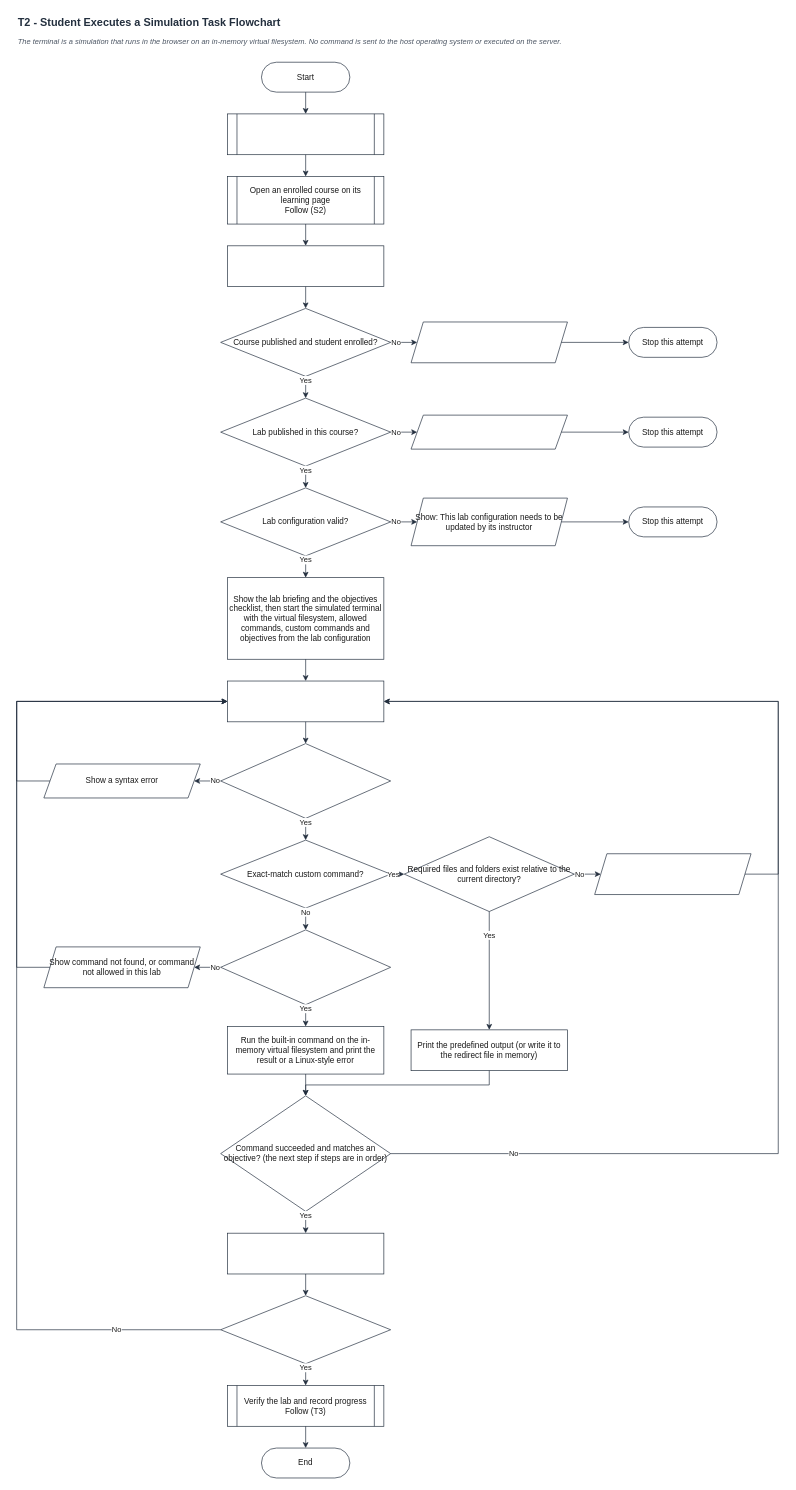
Image size: 796x1490. Some labels were removed from this diagram. Each missing label, with the box of its shape:
All objectives complete?: (220, 1295, 391, 1364)
Built-in command known and allowed in this lab?: (220, 929, 391, 1005)
Mark the objective complete, update the checklist and show the next hint: (227, 1232, 384, 1274)
Redirection (>) syntax valid? (checked only when > is used): (220, 743, 391, 818)
Select a lab under Terminal Simulation Labs (/Courses/Learn with the lab id): (227, 245, 384, 287)
Show Course not found, or the Course Details page to enrol: (410, 321, 567, 363)
Show the first lesson instead: (410, 414, 567, 449)
Show the missing file or folder error: (594, 853, 751, 895)
Sign in as a Student Follow (GA5) and (GA11): (227, 113, 384, 155)
Student types a command at the prompt: (227, 680, 384, 722)
